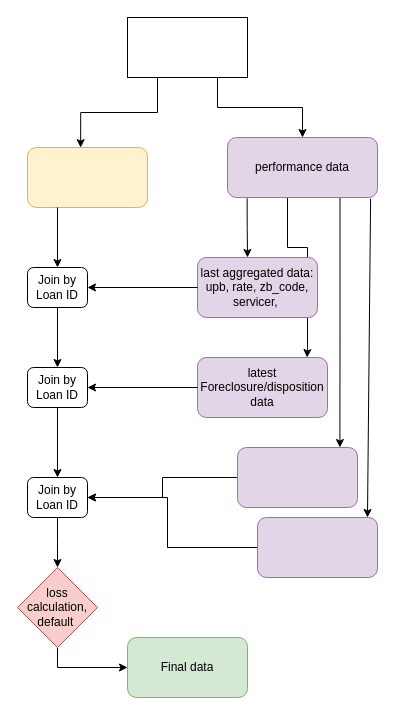
Some shapes in this 397 by 715 pixel diagram are drawn without their labels. Each missing label, with the centre of its shape:
"acquisition data" goes at pixel 87 177.
"delinquency table" goes at pixel 297 477.
"modification table" goes at pixel 317 547.
"raw data" goes at pixel 187 47.
